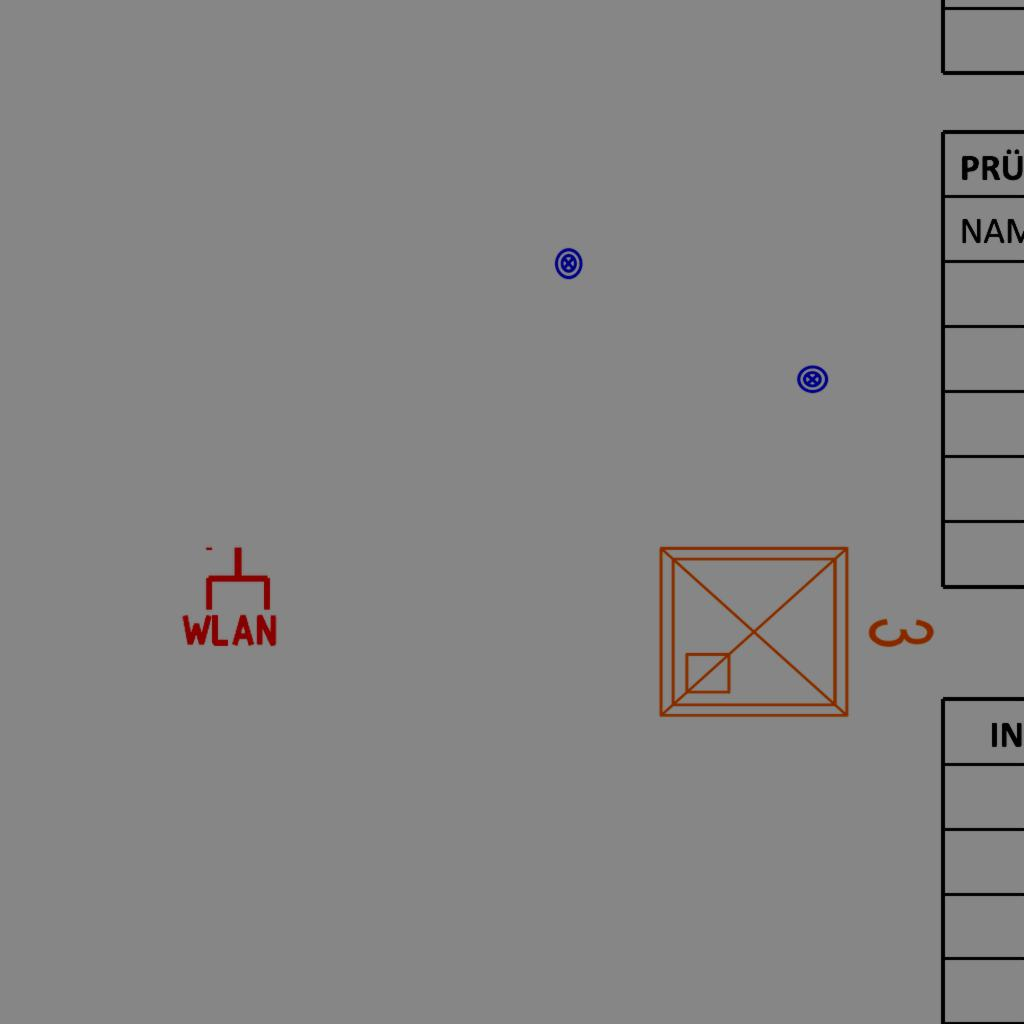Einbaudownlights_LED_Konferenzraeume: (645, 524, 945, 732)
Taster_beleuchtet: (552, 247, 585, 280), (796, 363, 829, 396)
WLAN: (177, 543, 281, 648)
